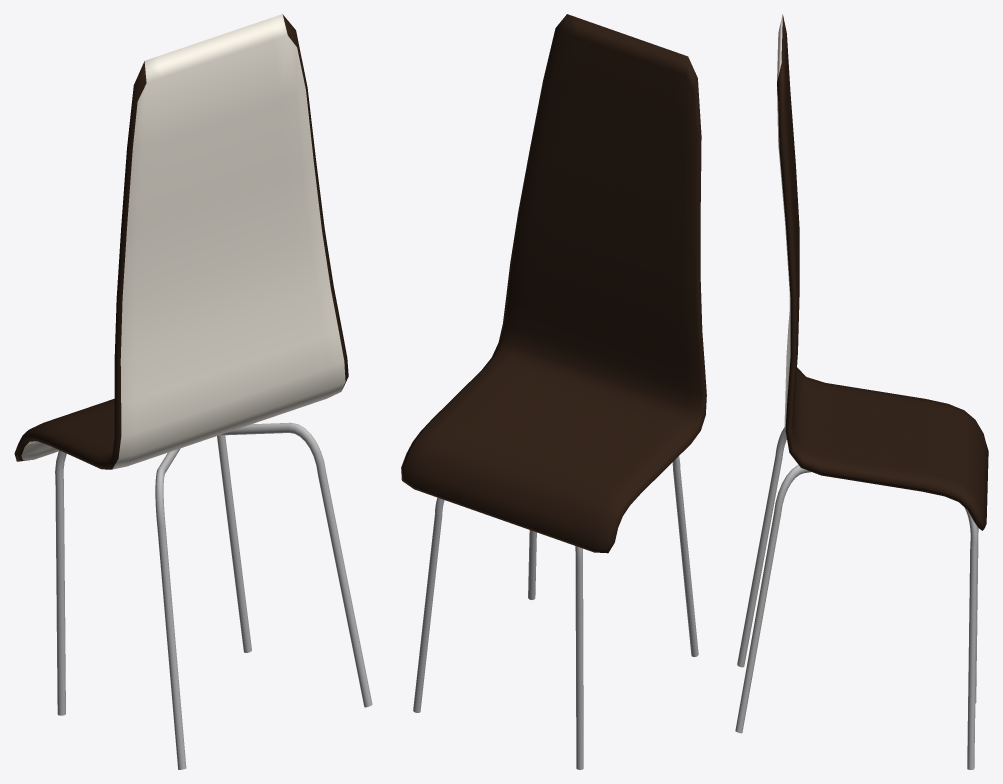
Rendered from silla.obj.
3 views of the same model, side by side, from view 1: azimuth 30°, elevation 25°; view 2: azimuth 150°, elevation 25°; view 3: azimuth 270°, elevation 25° (orthographic). The views are drawn at different scales.
Parts seen in each view (by area): view 1: polySurface54 polySurface233, polySurface54 polySurface222, polySurface229 polySurface54; view 2: polySurface54 polySurface233, polySurface229 polySurface54, polySurface54 polySurface222; view 3: polySurface54 polySurface233, polySurface229 polySurface54, polySurface54 polySurface222.
Boxes of the visible parts, x1,y1,x2,y2 form: polySurface54 polySurface233: (14,14,348,469); polySurface54 polySurface222: (55,422,372,715); polySurface229 polySurface54: (155,435,251,769); polySurface54 polySurface233: (401,14,706,553); polySurface229 polySurface54: (413,456,698,712); polySurface54 polySurface222: (528,530,583,769); polySurface54 polySurface233: (777,14,988,530); polySurface229 polySurface54: (737,427,977,769); polySurface54 polySurface222: (735,465,978,733).
Size of the model in its own units: 3.76 by 10.95 by 3.63.
